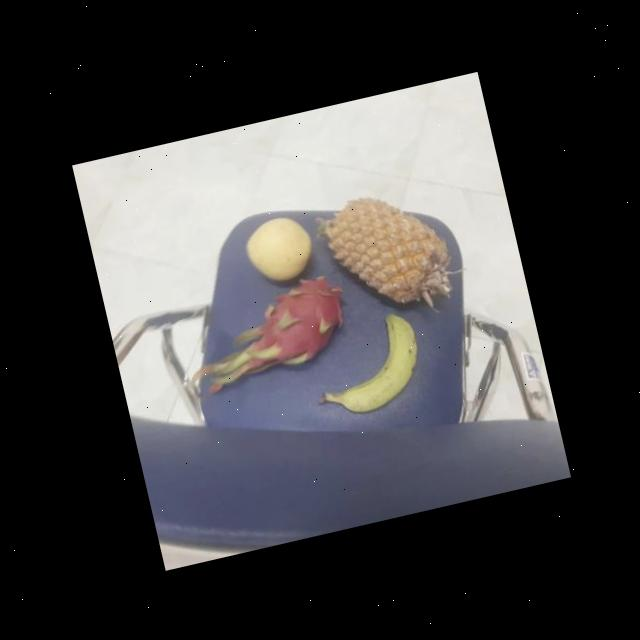banana: (302, 308, 428, 421)
pear: (237, 210, 320, 288)
pineapple: (308, 175, 456, 327)
pitaya: (244, 269, 352, 373)
